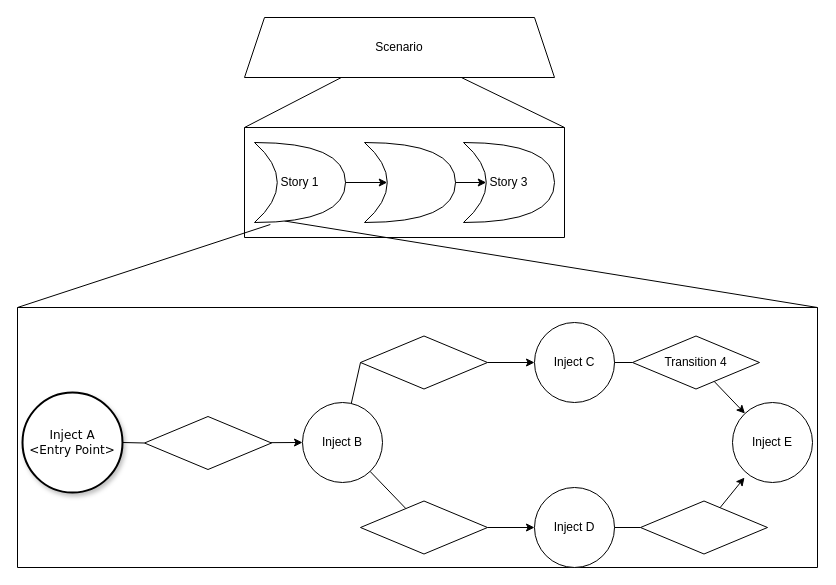
Image size: 836x585. Some labels were removed from this diagram. Here are the shapes that lost their labels. From the top down, the centre of each, then its label:
point 410,182: Story 2
point 424,362: Transition 2
point 208,443: Transition 1
point 424,527: Transition 3
point 704,527: Transition 5
